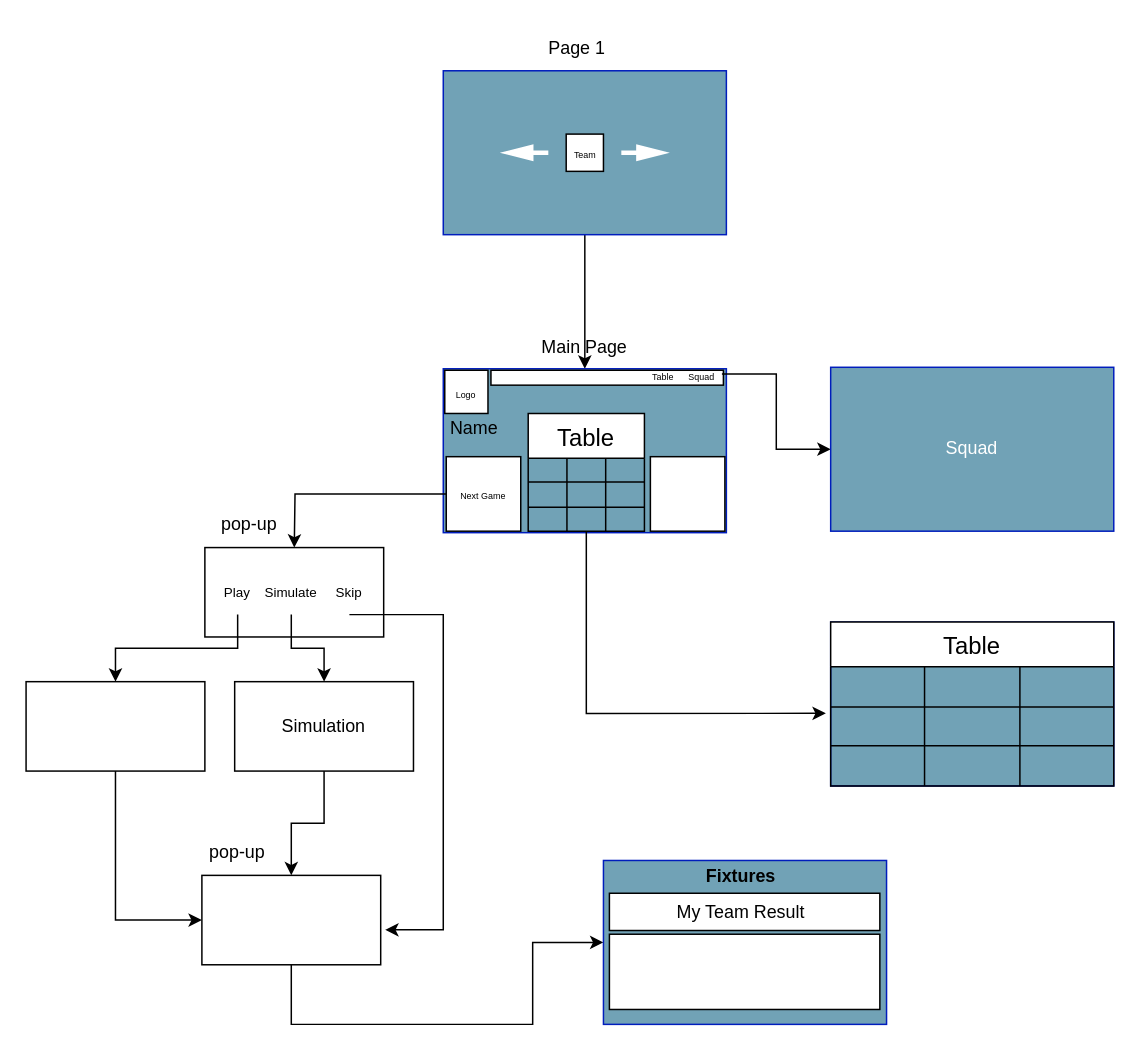
Some shapes in this 1140 by 1062 pixel diagram are drawn without their labels. The shapes that lost their labels are listed below. From the top down, each one's box as (x1, y1, x2, y2) in pixels, then its label:
(649, 455, 725, 531): Best Scorers
(25, 680, 205, 771): Game
(200, 874, 381, 965): Results
(608, 933, 880, 1009): Other Results
